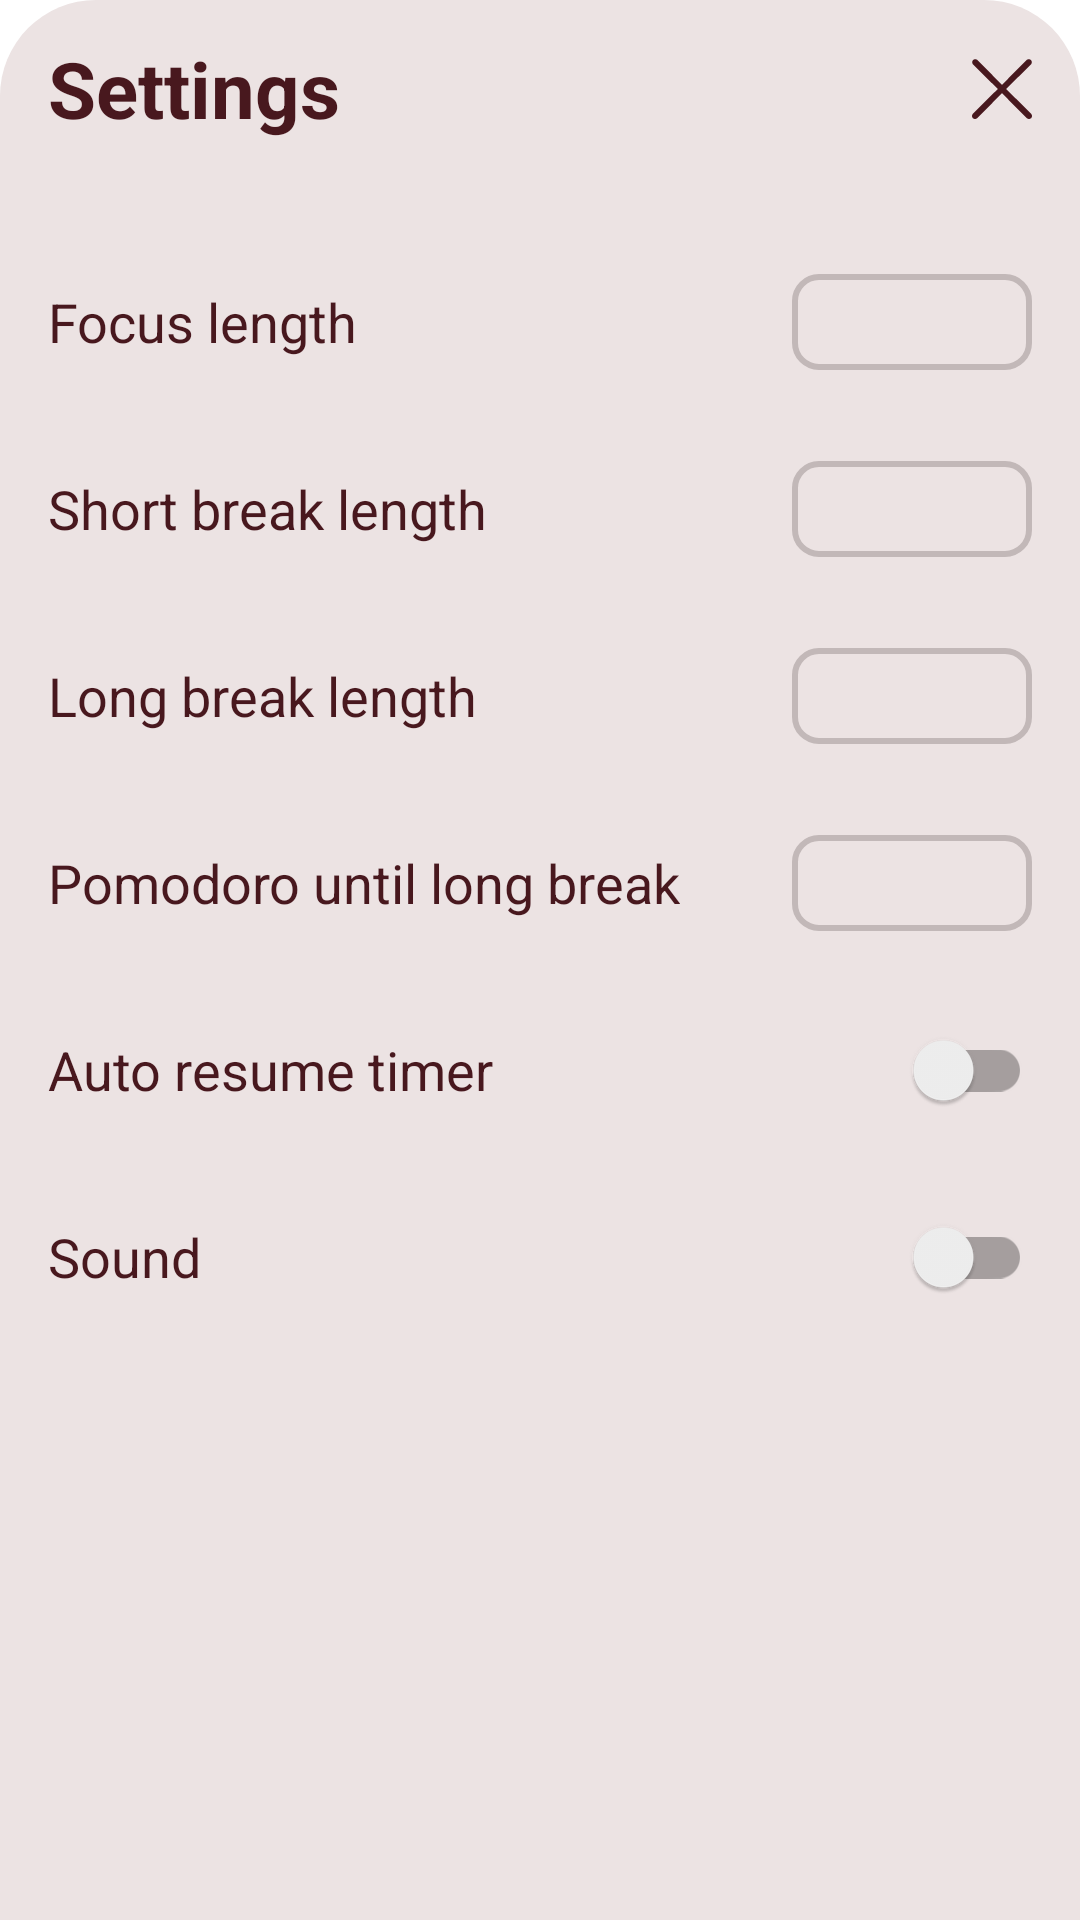

Named icons in this screenshot (1080 x 1920) and their centers, point (x, y):
Exit: point (1002, 89)
